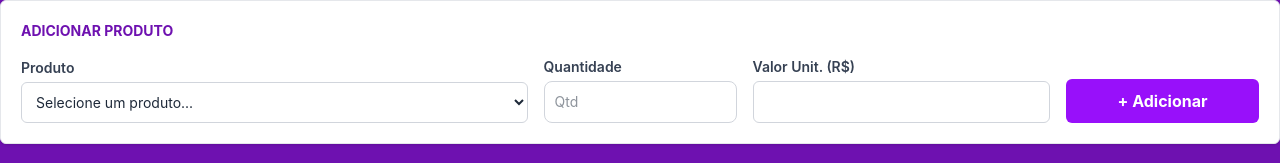
Test: Regras de Negócio: ItemPedidoForm › deve apresentar a badge ÓTIMA quando o preço digitado é maior que a tabela
The image size is (1280, 163).
Note: Simula o utilizador a selecionar o produto X-Wing
Select "X-Wing (Mult: 2) - R$ 60.000,00" in the dropdown: [274, 102] box x1=21 y1=82 x2=528 y2=123
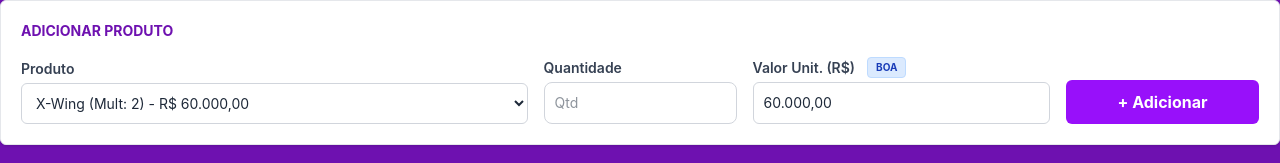
Note: Simula o utilizador a digitar 70.000 no valor unitário (10k a mais que a tabela)
Replace the text in the field labelled "Valor Unit. (R$)" with "7000000": [901, 103] box x1=752 y1=82 x2=1050 y2=124
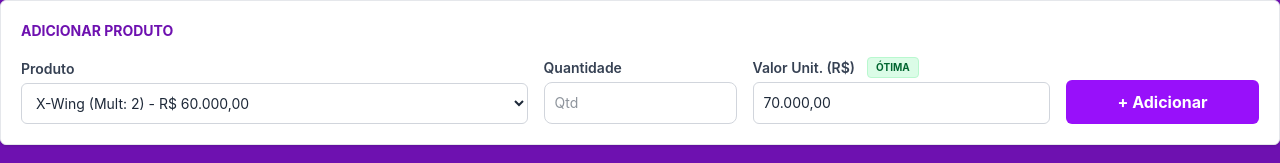
Now the text "ÓTIMA" is shown, box x1=867 y1=57 x2=919 y2=78
